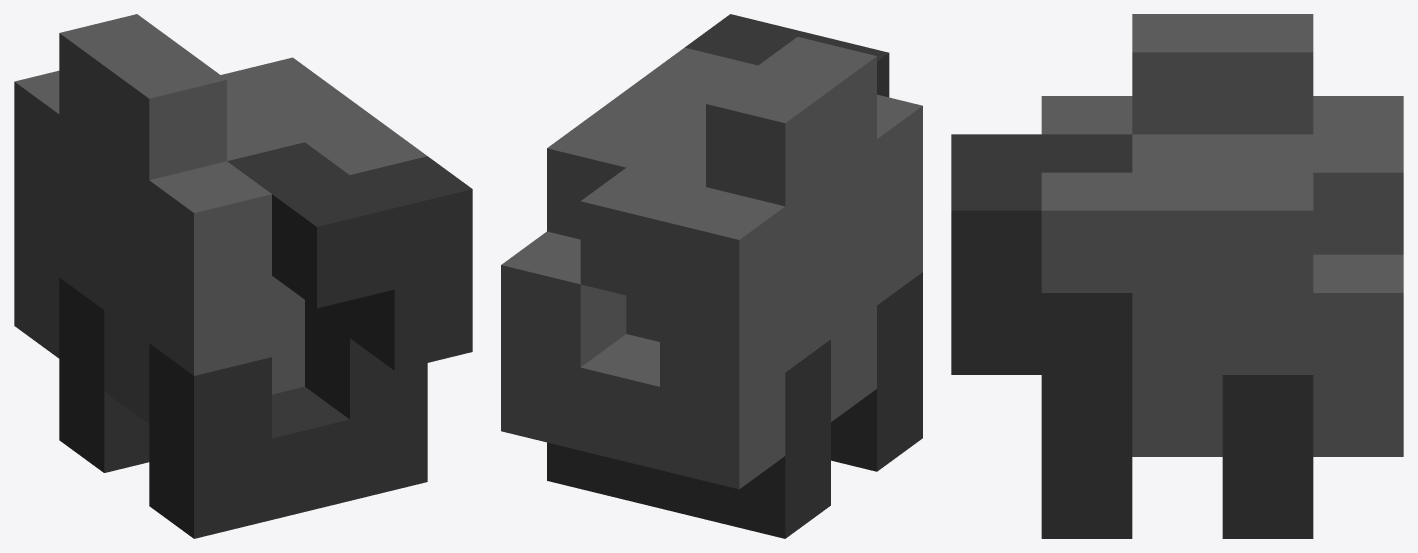
Rendered from Arm-20.obj.
The picture shows the model from 3 angles, left to right: view 1: azimuth 30°, elevation 25°; view 2: azimuth 150°, elevation 25°; view 3: azimuth 270°, elevation 25°; orthographic projection. The views are drawn at different scales.
Bounding box in the file's own units: 0.3 × 0.5 × 0.5.
1 material, 1 textured.
